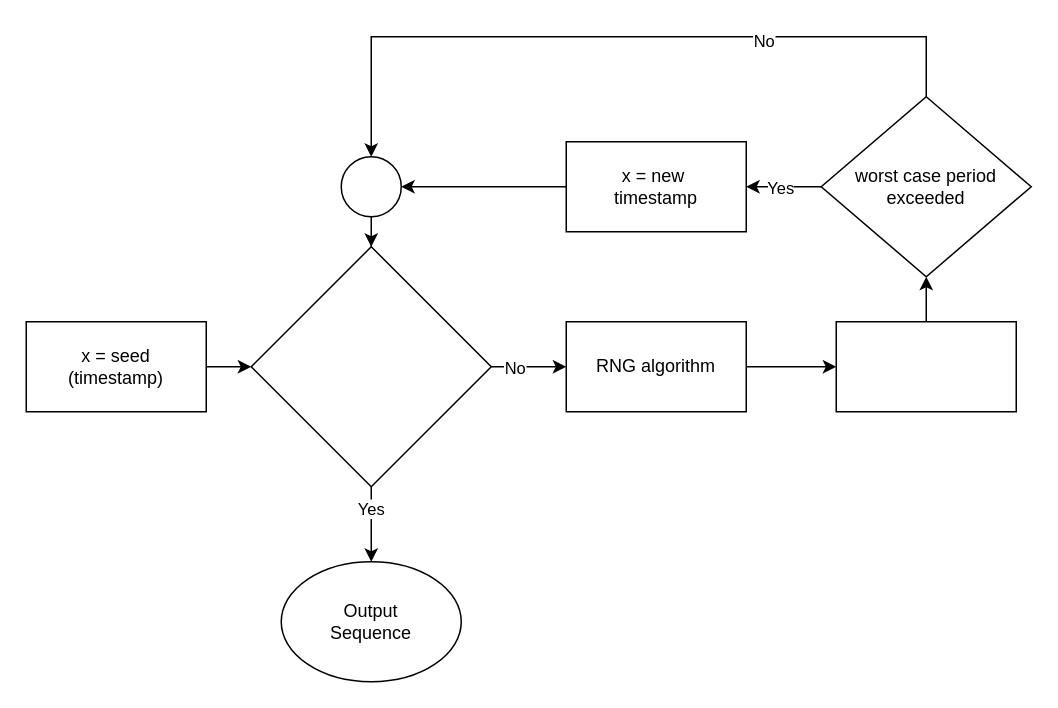
Some shapes in this 1058 by 708 pixel diagram are drawn without their labels. The centre of each missing label's shape, as x and y in pixels:
"count(random number) <= n" belongs at (x=370, y=366).
"x = random number" belongs at (x=925, y=366).
